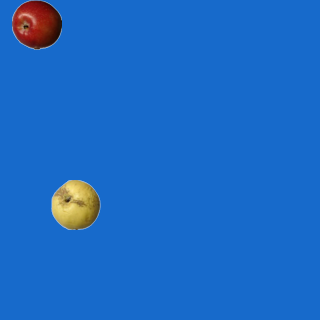Apple Braeburn: (11, 0, 61, 49)
Apple Golden 1: (50, 179, 100, 229)
